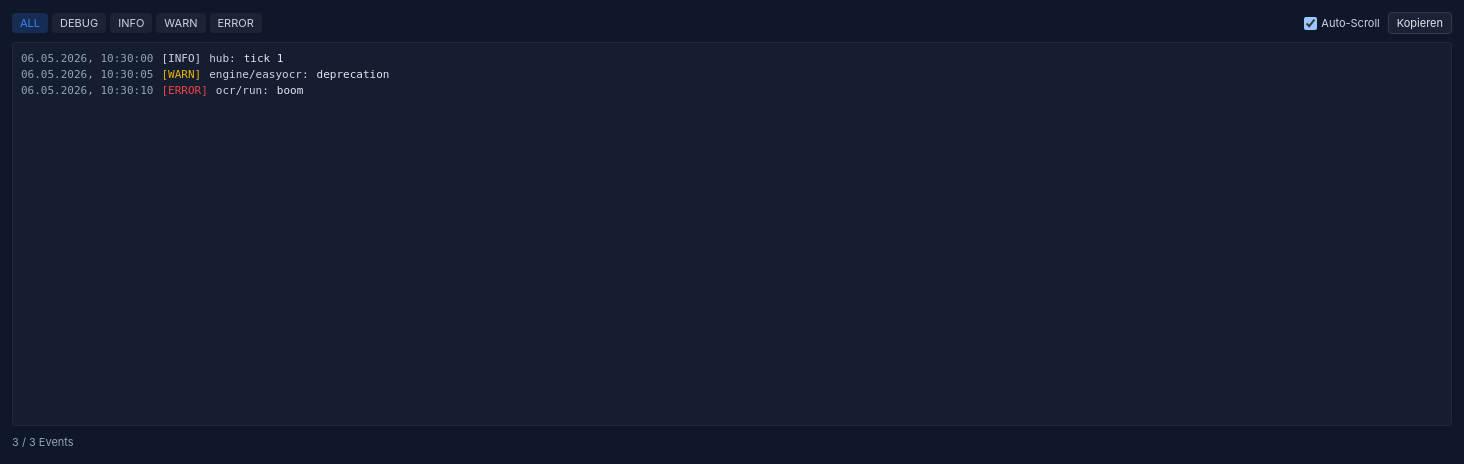
Test: EdgeLogPanel › filtert nach Level
Click the button with test id "edge-filter-WARN".
click(181, 23)  # box [156, 13, 206, 33]
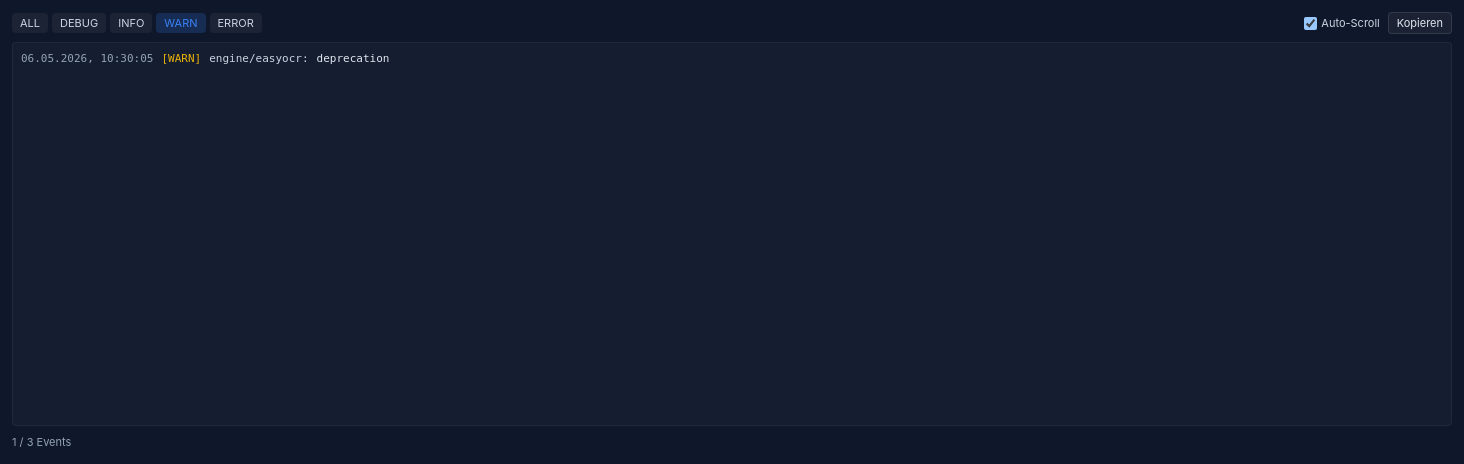
Expected: the number of elements with test id "edge-log-row" is 1, [21, 52, 389, 65]
